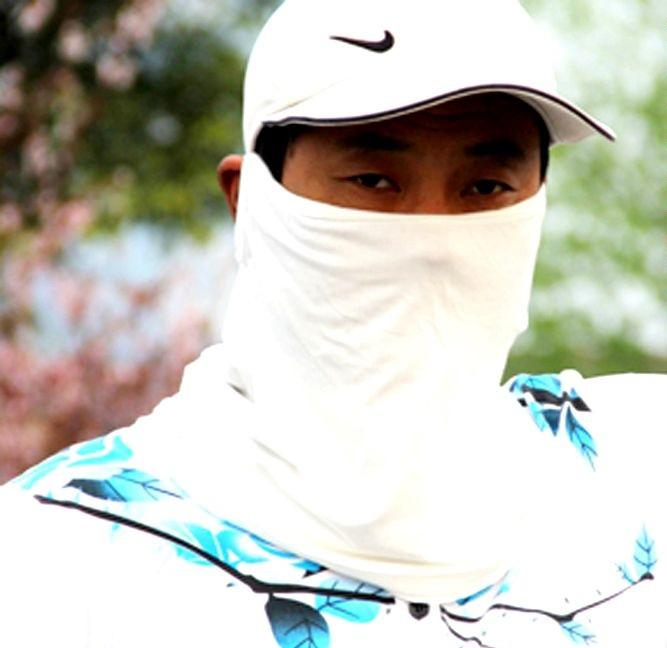OK: (267, 111, 536, 375)
